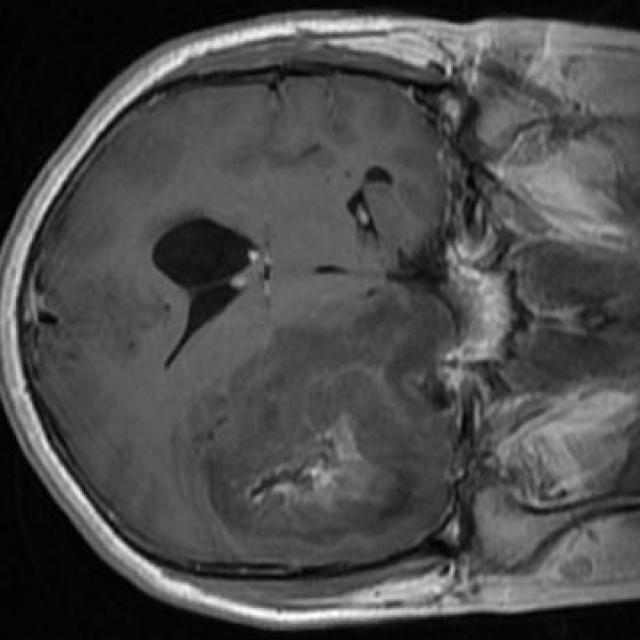glioma: (203, 307, 455, 542)
